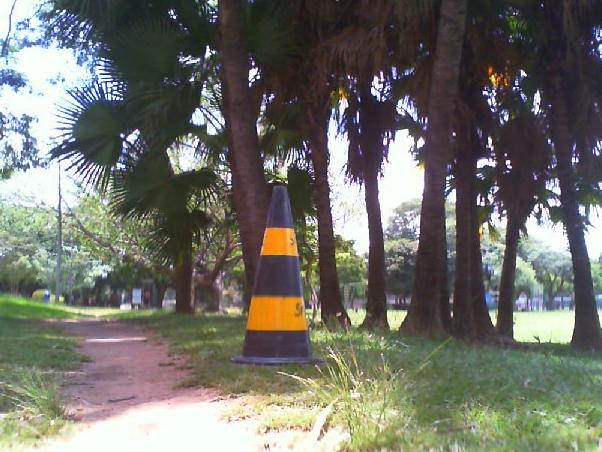0 cone: (231, 187, 323, 365)
